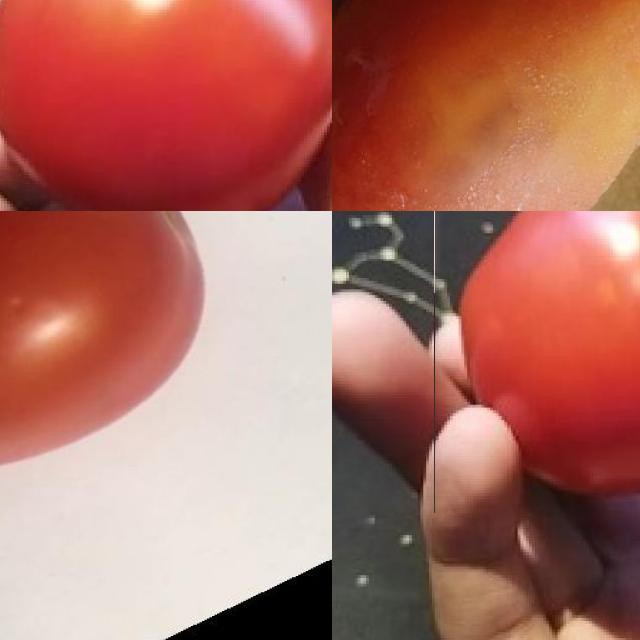Fresh Tomato: (0, 0, 332, 211), (332, 0, 640, 211), (0, 211, 226, 488), (434, 211, 640, 513)
